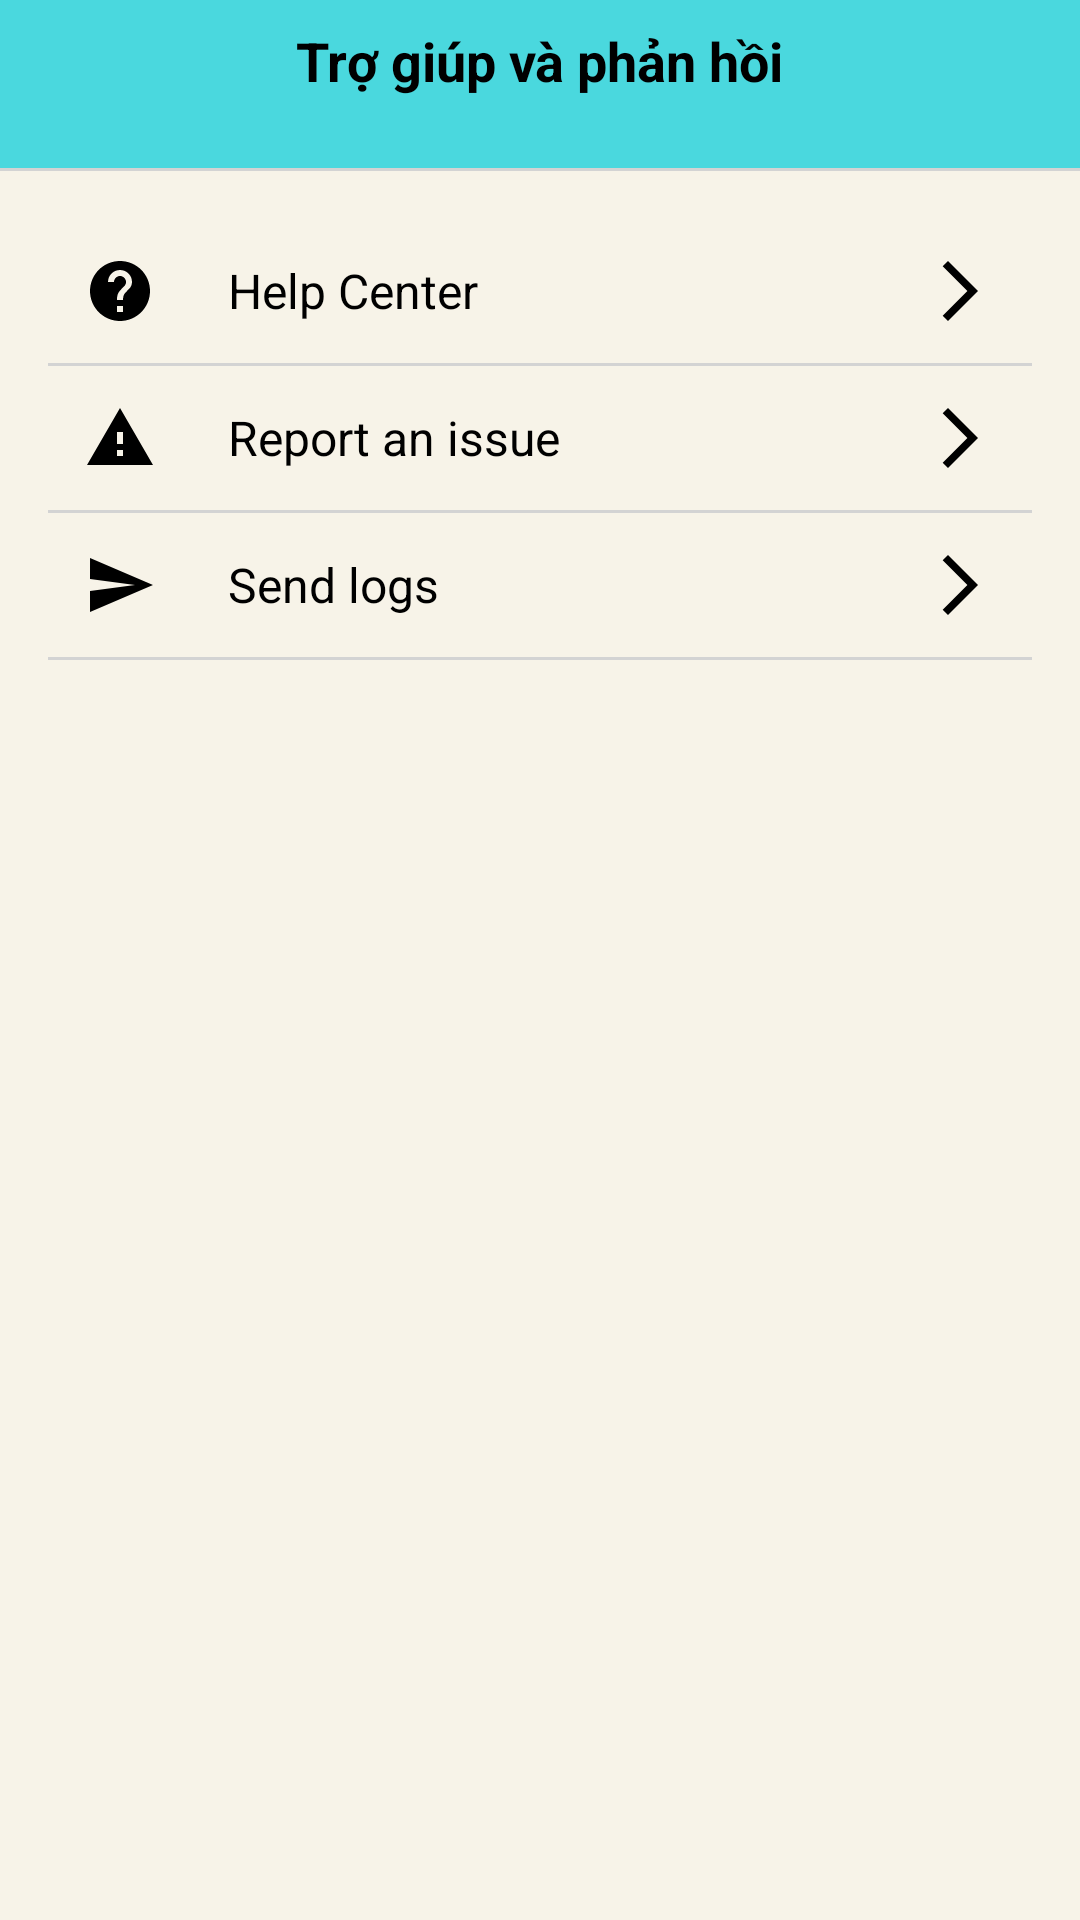

Where icons sit on this 1080 × 1920 app screen, as (x1, y1, x2, y2):
next arrow: (943, 261, 978, 321), (943, 408, 978, 468), (943, 555, 978, 615)
